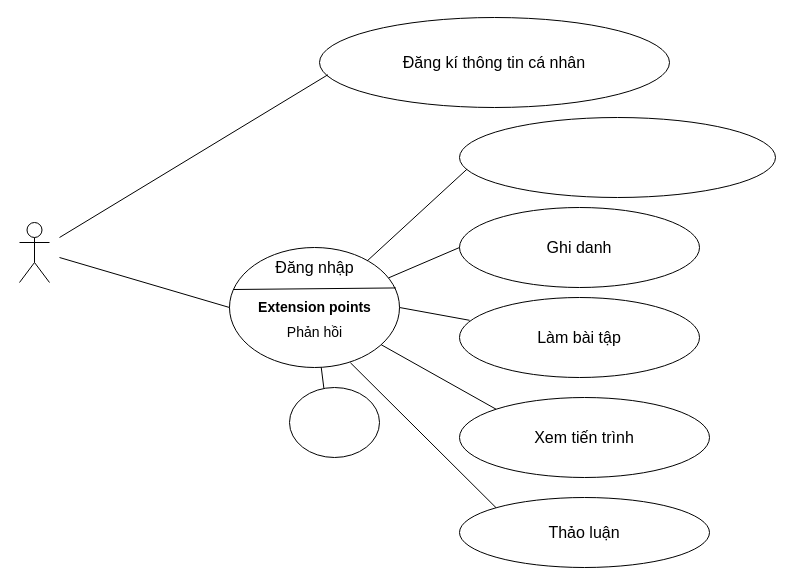
This 793x585 diagram has some shape labels left out. The shapes that lost their labels are listed below. From the top down, each one's centre as x and y in pixels, then its label:
At pixel 617 157: "Tìm kiếm thông tin khóa học".
At pixel 34 252: "User".
At pixel 334 422: "Sign out".
